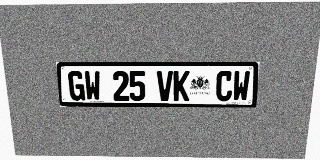2: (113, 71, 129, 101)
5: (129, 71, 146, 101)
C: (215, 71, 233, 101)
G: (68, 71, 85, 101)
K: (173, 71, 190, 101)
V: (157, 71, 173, 101)
W: (232, 71, 250, 101), (84, 71, 101, 101)
